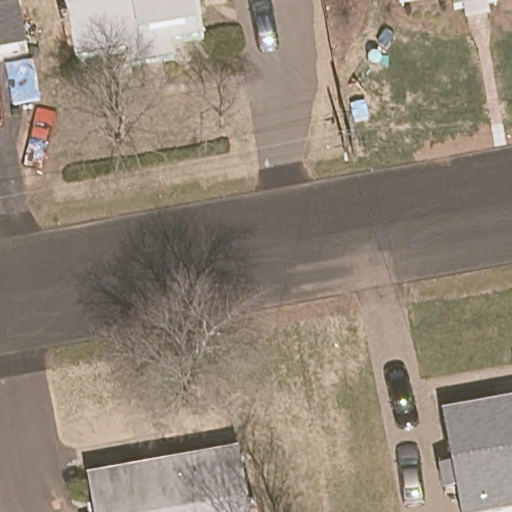DT: (325, 124, 367, 163)
